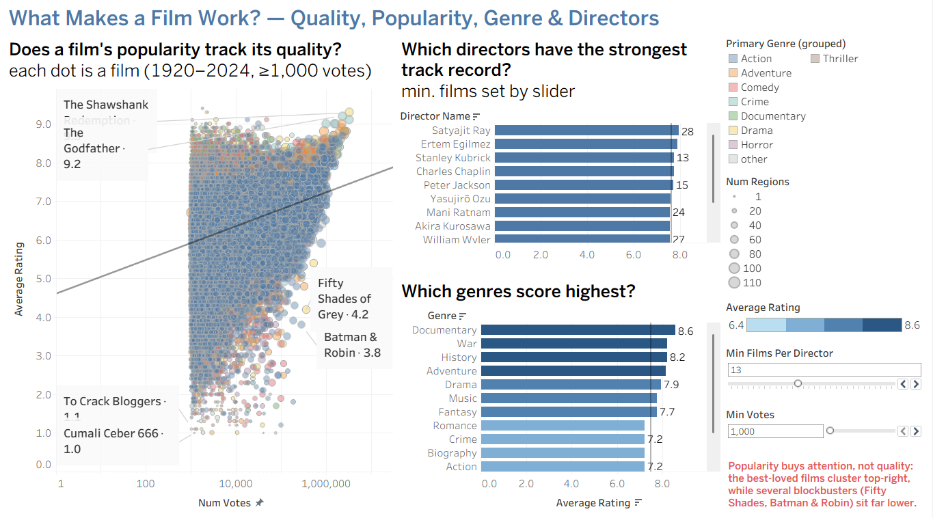

Layout of this report page (visuals, bound fields, positions):
{"tool":"tableau","page":{"name":"Quality & Popularity","canvas":[1366,768],"ordinal":2},"visuals":[{"type":"title","box":[8,8,1350,44]},{"type":"worksheet","title":"Quality vs Popularity","mark":"Circle","rows":["averageRating"],"cols":["numVotes"],"box":[8,52,574,708]},{"type":"worksheet","title":"Top Directors","mark":"Automatic","rows":["directorName"],"cols":["averageRating"],"box":[582,52,479,354]},{"type":"legend","title":"Quality vs Popularity","param":"[federated.0wh5bqr1gexy0j13mzo9w14f1z8v].[Primary Genre (group)]","box":[1061,52,297,202]},{"type":"legend","title":"Quality vs Popularity","param":"[federated.0wh5bqr1gexy0j13mzo9w14f1z8v].[sum:numRegions:qk]","box":[1061,254,297,184]},{"type":"worksheet","title":"Genre Ratings","mark":"Automatic","rows":["genre"],"cols":["averageRating"],"box":[582,406,479,354]},{"type":"legend","title":"Genre Ratings","param":"[federated.1fkq490048m1v9109c2dg19p78gd].[avg:averageRating:qk]","box":[1061,438,297,67.5]},{"type":"parameter","param":"[Parameters].[Parameter 2]","box":[1061,505.5,297,90]},{"type":"parameter","param":"[Parameters].[Parameter 1]","box":[1061,595.5,297,67.5]},{"type":"text","box":[1061,663,297,97]}]}

Visuals, with their boxes in screenshot pixels (x1, y1, x2, y2), scaled from the page's 1366x768 canvas onto the 933x518 screenshot:
title: x1=5, y1=5, x2=928, y2=35
"Quality vs Popularity" worksheet (Circle marks): x1=5, y1=35, x2=398, y2=513
"Top Directors" worksheet: x1=398, y1=35, x2=725, y2=274
"Quality vs Popularity" legend: x1=725, y1=35, x2=928, y2=171
"Quality vs Popularity" legend: x1=725, y1=171, x2=928, y2=295
"Genre Ratings" worksheet: x1=398, y1=274, x2=725, y2=513
"Genre Ratings" legend: x1=725, y1=295, x2=928, y2=341
parameter: x1=725, y1=341, x2=928, y2=402
parameter: x1=725, y1=402, x2=928, y2=447
text: x1=725, y1=447, x2=928, y2=513
